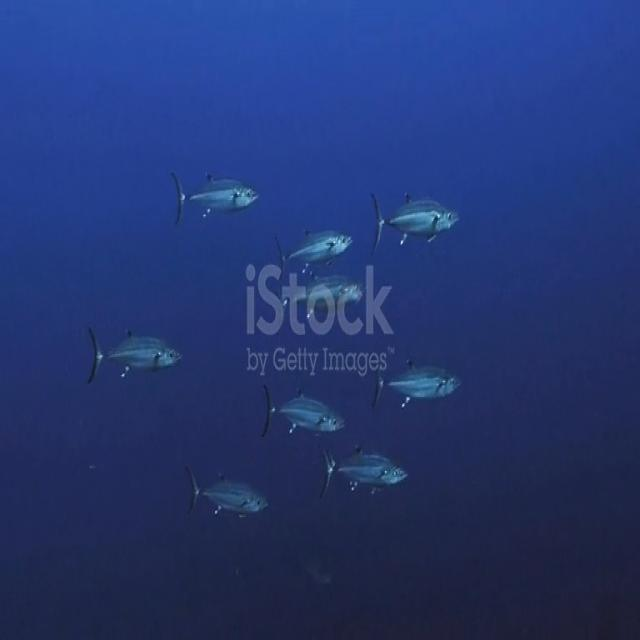fish: (168, 160, 260, 228), (87, 321, 183, 386), (370, 351, 460, 417), (373, 187, 458, 255), (314, 438, 410, 498), (259, 377, 346, 442), (185, 459, 271, 523), (277, 268, 369, 319), (274, 220, 356, 276)
